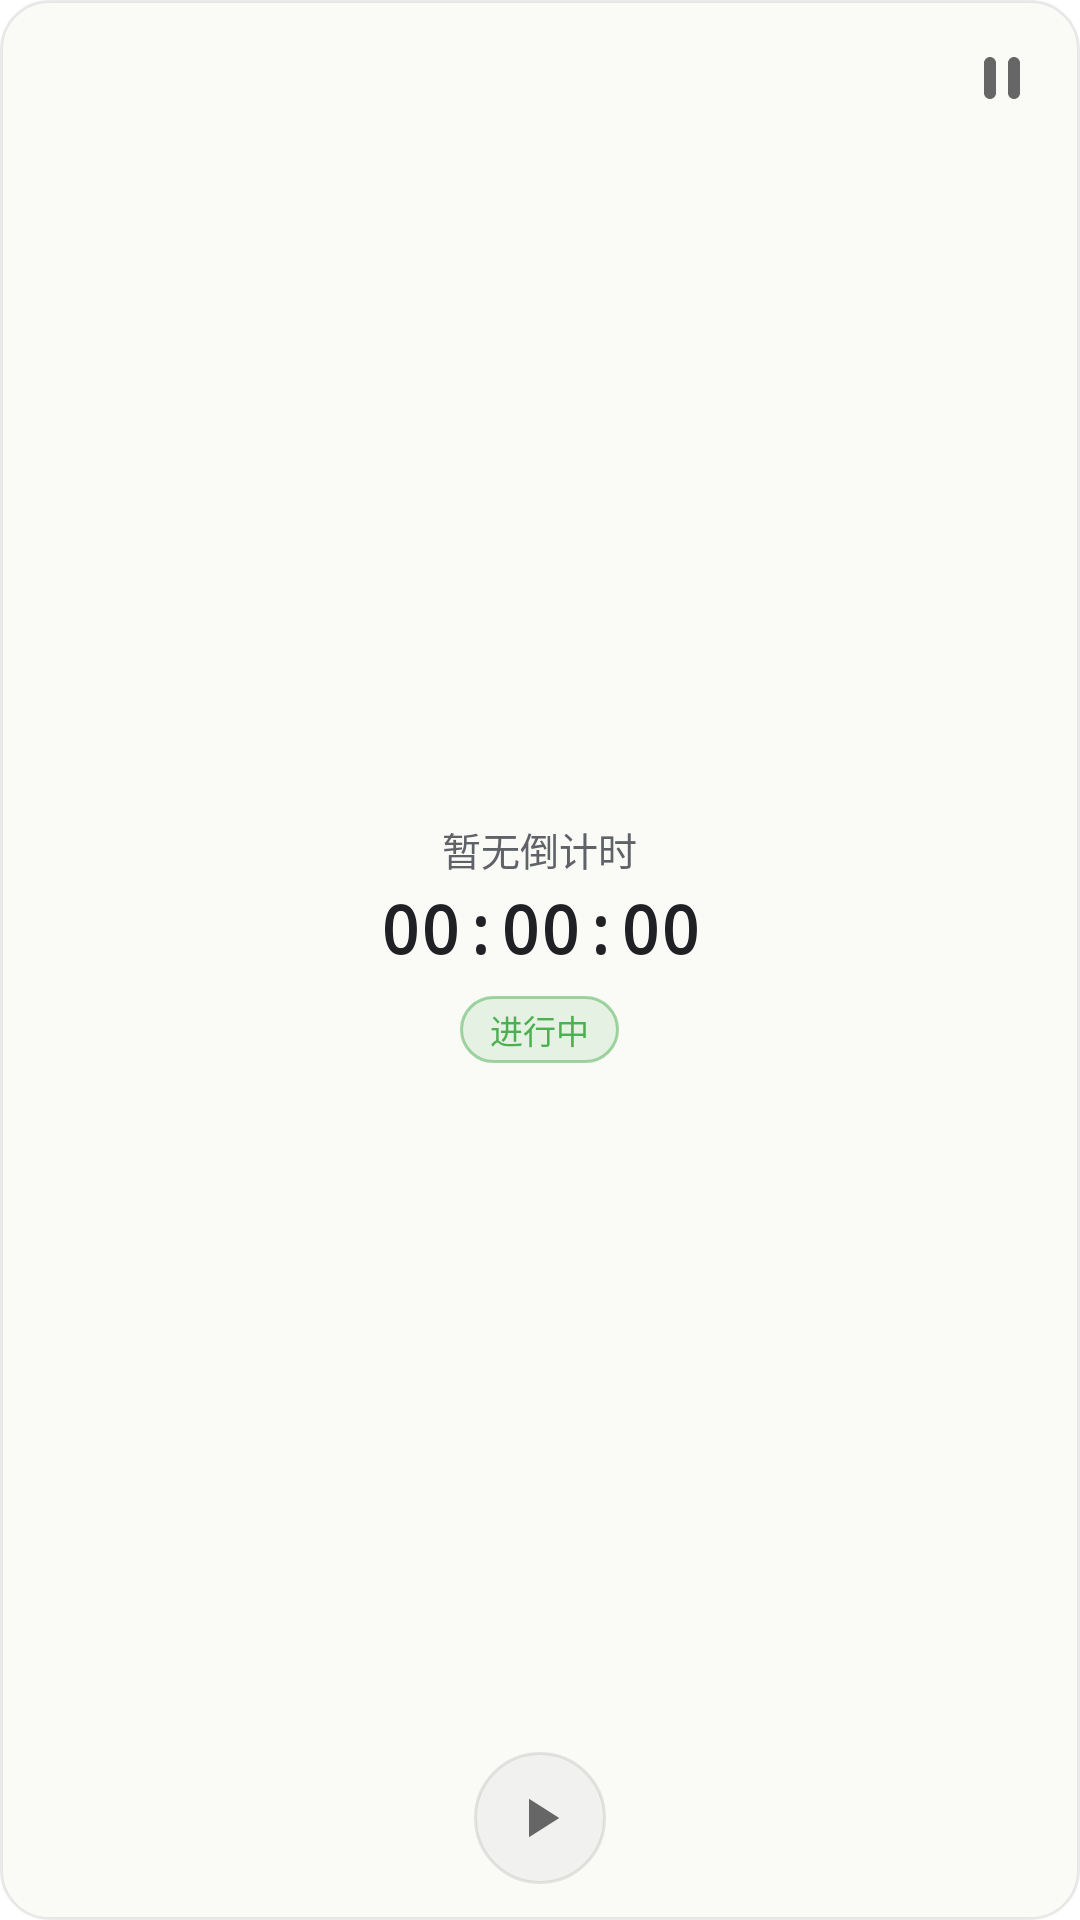

Named icons in this screenshot (1080 × 1920) and their centers, (x,y):
开始/暂停时钟: (540,1818)
